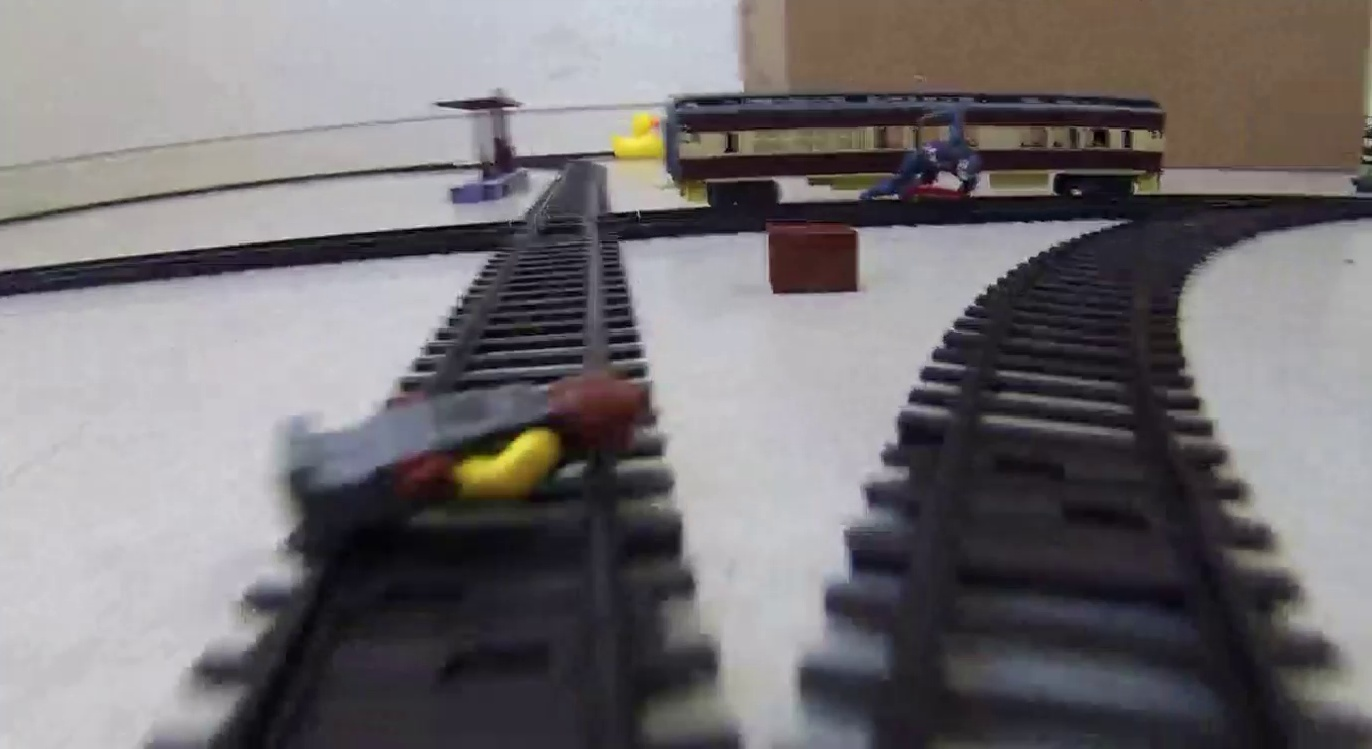box: (763, 221, 863, 296)
people: (281, 370, 648, 527), (858, 103, 988, 198)
